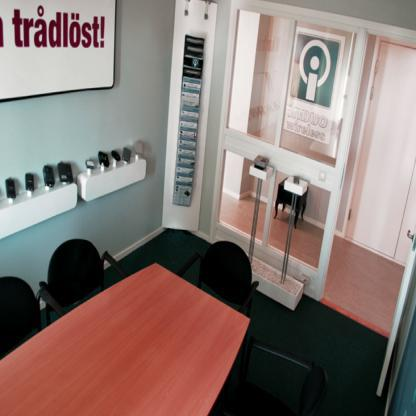door: (345, 38, 404, 246)
hinged: (368, 84, 375, 100), (374, 60, 379, 76), (348, 206, 352, 221)
knob: (404, 224, 414, 245)
